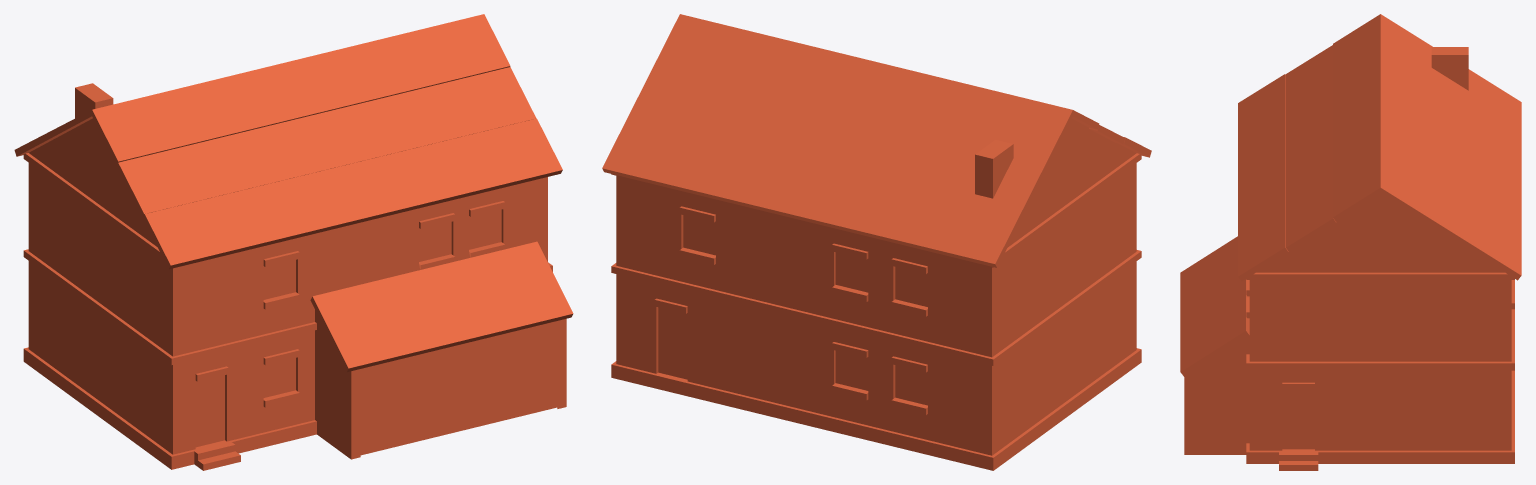
File: building-big.fbx
3 views of the same model, side by side, from view 1: azimuth 30°, elevation 25°; view 2: azimuth 150°, elevation 25°; view 3: azimuth 270°, elevation 25° (orthographic). The views are drawn at different scales.
Visible parts, largest first — view 1: building-big; view 2: building-big; view 3: building-big.
Part boxes in pixels (x1,y1,x2,y2): building-big: (14, 14, 573, 470); building-big: (602, 14, 1151, 470); building-big: (1180, 14, 1521, 470).
Size of the model in its own units: 12.88 by 9.4 by 10.42.
